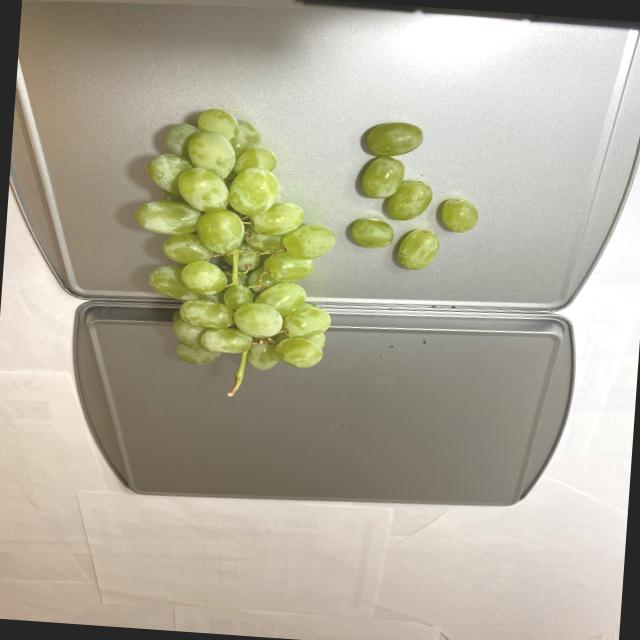grapes: (120, 92, 485, 414), (119, 93, 348, 407), (339, 116, 486, 279)
